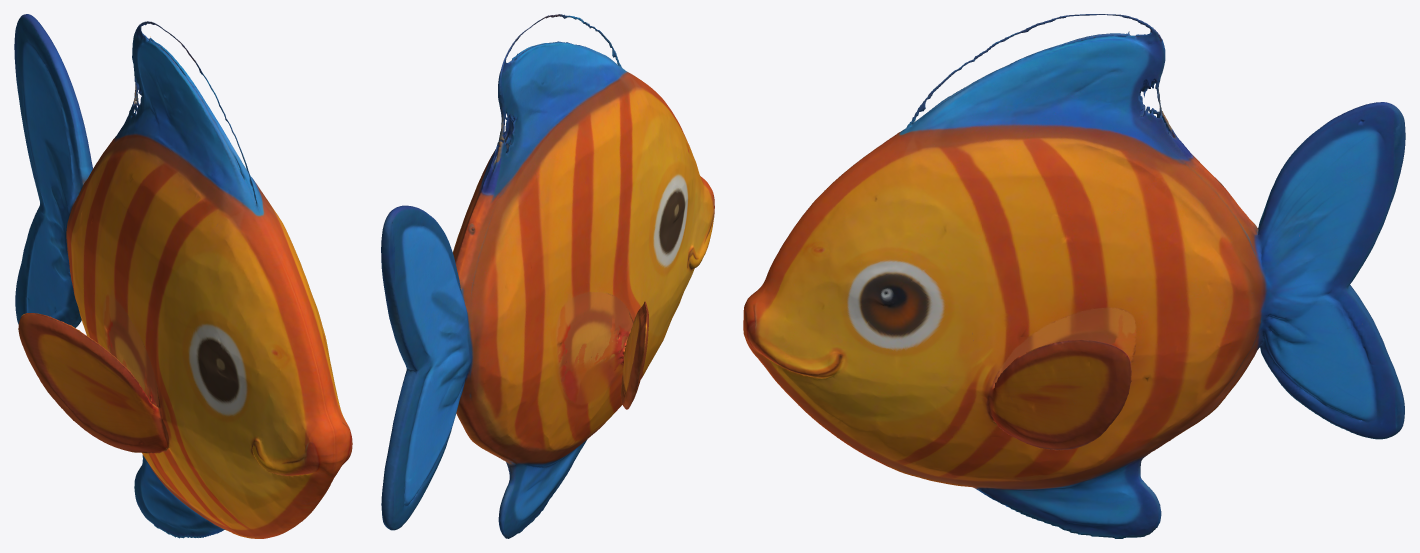
Rendered from fish.glb.
3 renders of one model, left to right at view 1: azimuth 30°, elevation 25°; view 2: azimuth 150°, elevation 25°; view 3: azimuth 270°, elevation 25°, orthographic. The views are drawn at different scales.
Bounding box in the file's own units: 0.9561 × 1.74 × 1.99.
1 material, 1 textured.
